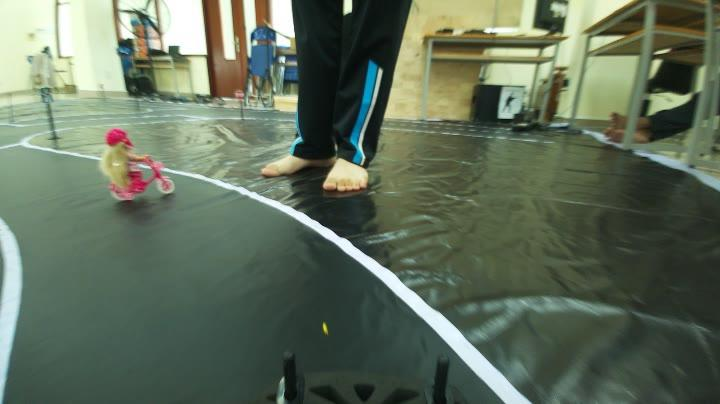pedestrian: (96, 124, 187, 206)
